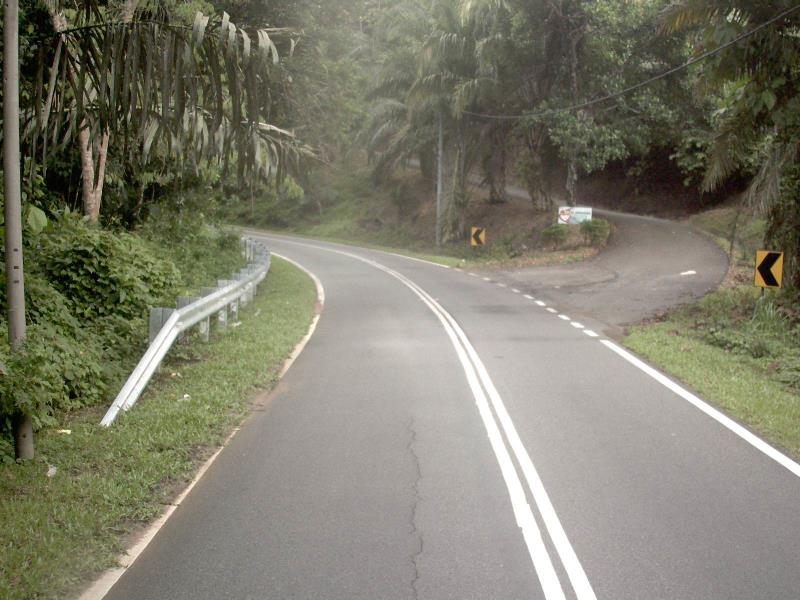traffic_sign: (747, 243, 792, 299)
